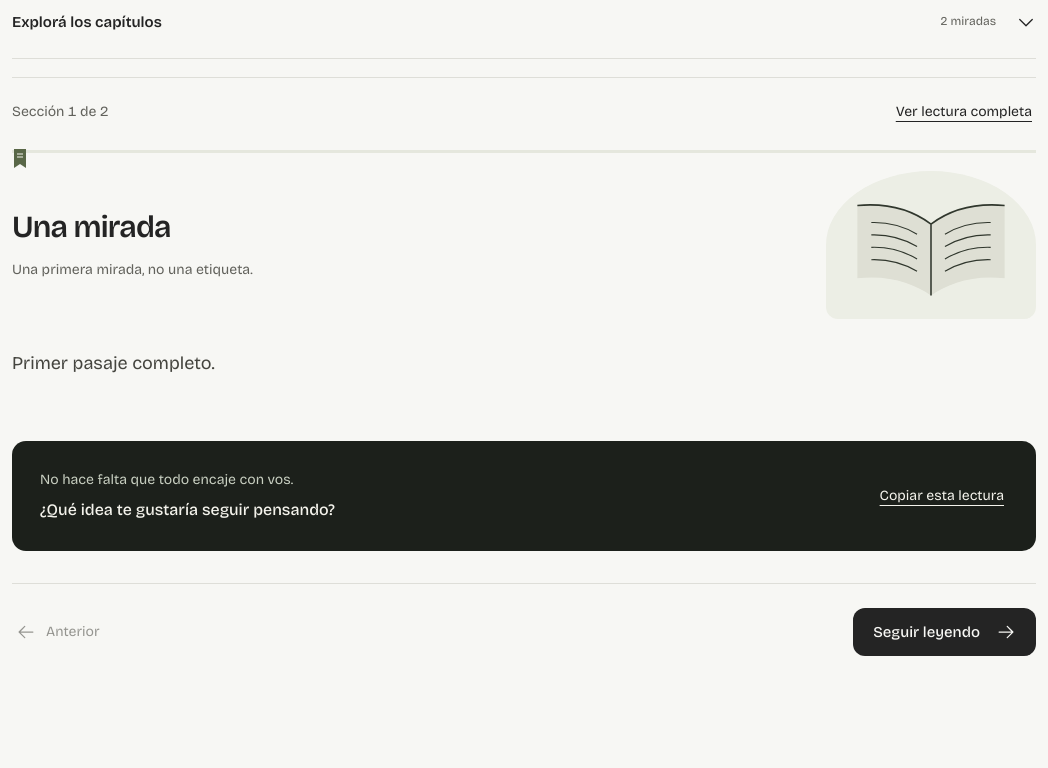
it: A reader chooses the pace › opens one section, advances and returns without losing text
Expected: the text "Primer pasaje completo." is shown, [12,352,214,374]
Expected: the text "Segundo pasaje completo." is not shown
Click the button with aria-label "siguiente sección".
click(945, 632)  # box [853,608,1036,656]
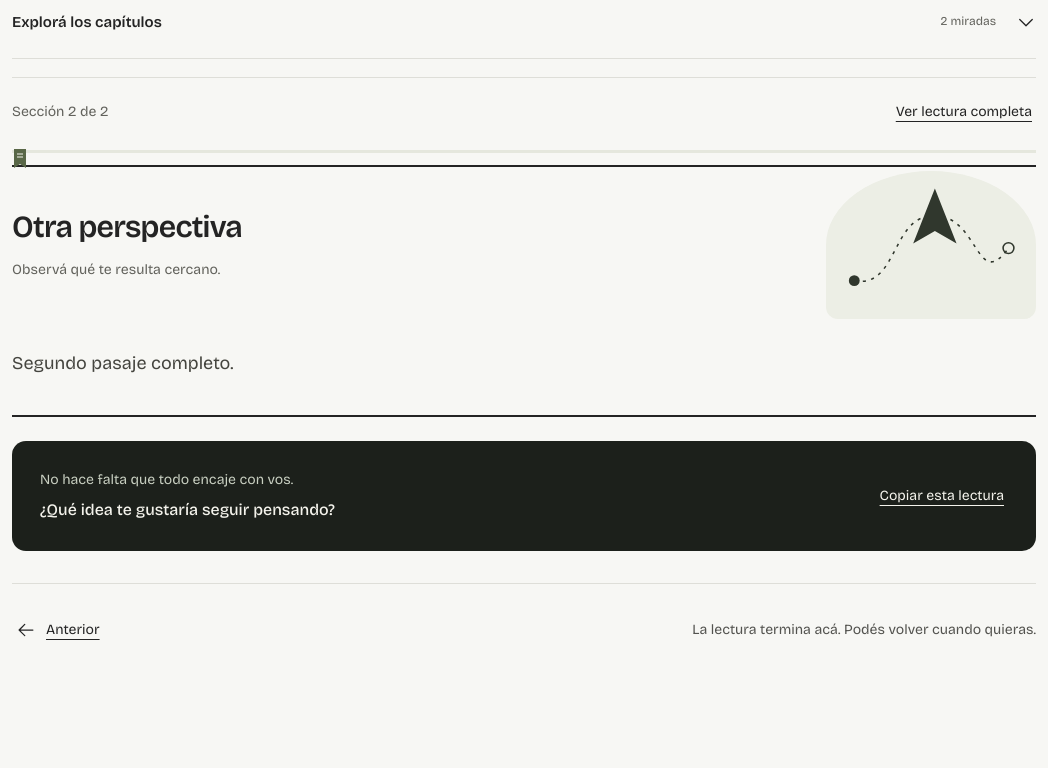
Now the text "Segundo pasaje completo." is shown, box [12,352,233,374]
Click the button with aria-label "sección anterior".
click(58, 630)  # box [12,608,104,652]
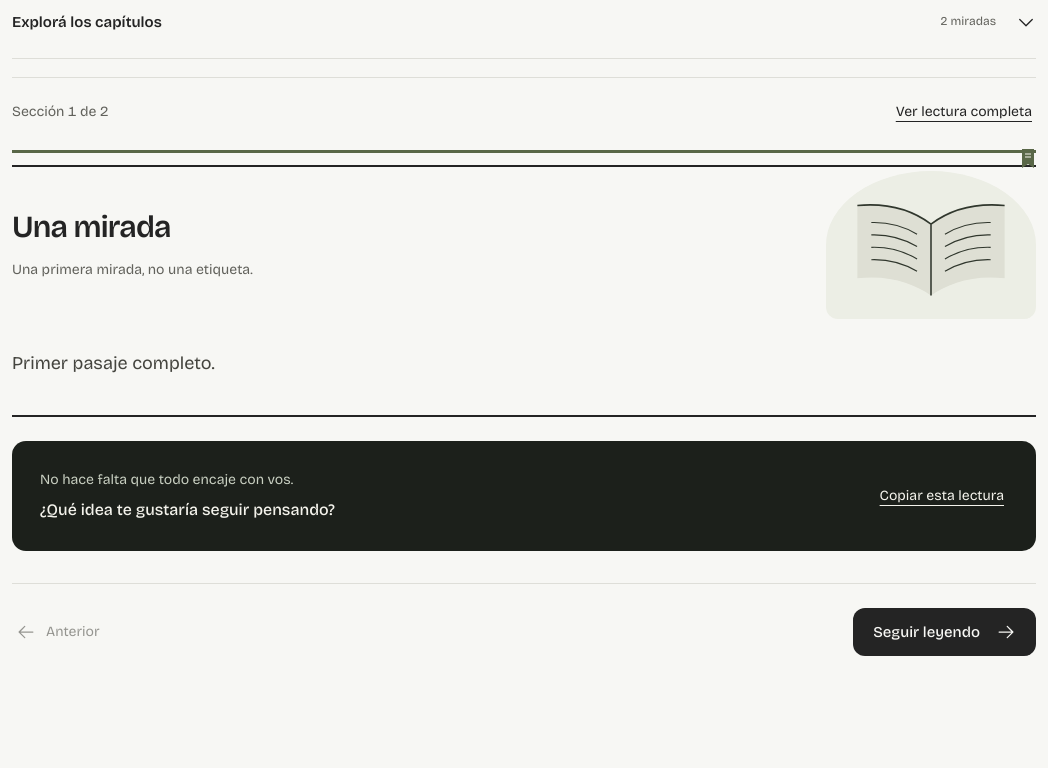
Now the text "Primer pasaje completo." is shown, box [12,352,214,374]
